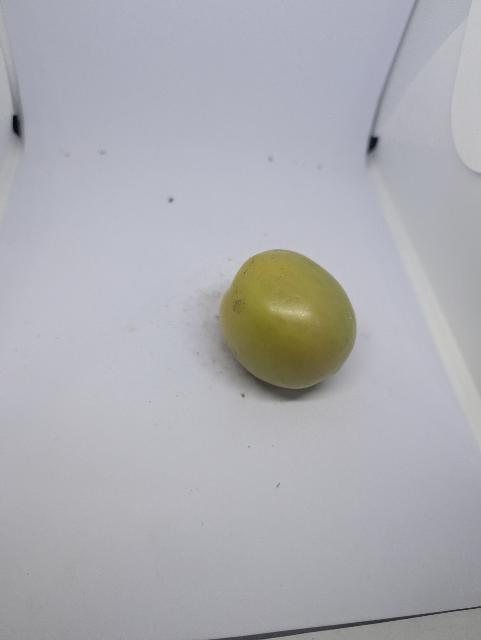breaker: (220, 250, 357, 389)
